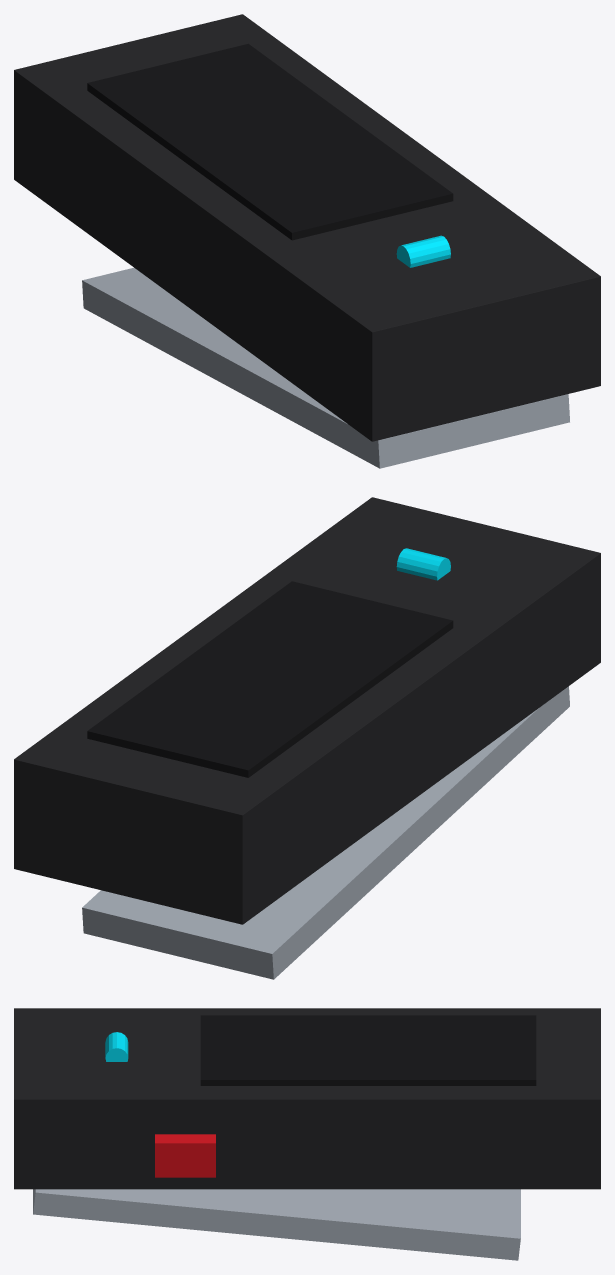
File: concept_4_airclip_mini.obj
3 renders of one model, top to bottom at view 1: azimuth 30°, elevation 25°; view 2: azimuth 150°, elevation 25°; view 3: azimuth 270°, elevation 25°, orthographic. The views are drawn at different scales.
Parts seen in each view (by area): view 1: AirClip_CFRP_MainBody, AirClip_CapacitiveTouchPad, AirClip_StainlessSpring_Jaw, AirClip_StatusLED_Pill; view 2: AirClip_CFRP_MainBody, AirClip_CapacitiveTouchPad, AirClip_StainlessSpring_Jaw, AirClip_StatusLED_Pill; view 3: AirClip_CFRP_MainBody, AirClip_StainlessSpring_Jaw, AirClip_CapacitiveTouchPad, AirClip_MuteToggle_Crimson, AirClip_StatusLED_Pill.
Part boxes in pixels (x1,y1,x2,y2): AirClip_CFRP_MainBody: (14, 14, 600, 441); AirClip_CapacitiveTouchPad: (87, 43, 453, 240); AirClip_StainlessSpring_Jaw: (82, 267, 569, 468); AirClip_StatusLED_Pill: (396, 235, 450, 267); AirClip_CFRP_MainBody: (14, 497, 600, 924); AirClip_CapacitiveTouchPad: (87, 581, 453, 777); AirClip_StainlessSpring_Jaw: (82, 686, 569, 979); AirClip_StatusLED_Pill: (396, 548, 450, 580); AirClip_CFRP_MainBody: (14, 1008, 600, 1189); AirClip_StainlessSpring_Jaw: (33, 1189, 520, 1260); AirClip_CapacitiveTouchPad: (200, 1015, 536, 1085); AirClip_MuteToggle_Crimson: (155, 1134, 215, 1177); AirClip_StatusLED_Pill: (105, 1032, 128, 1061).
Size of the model in its own units: 0.0156 by 0.0132 by 0.0385.
